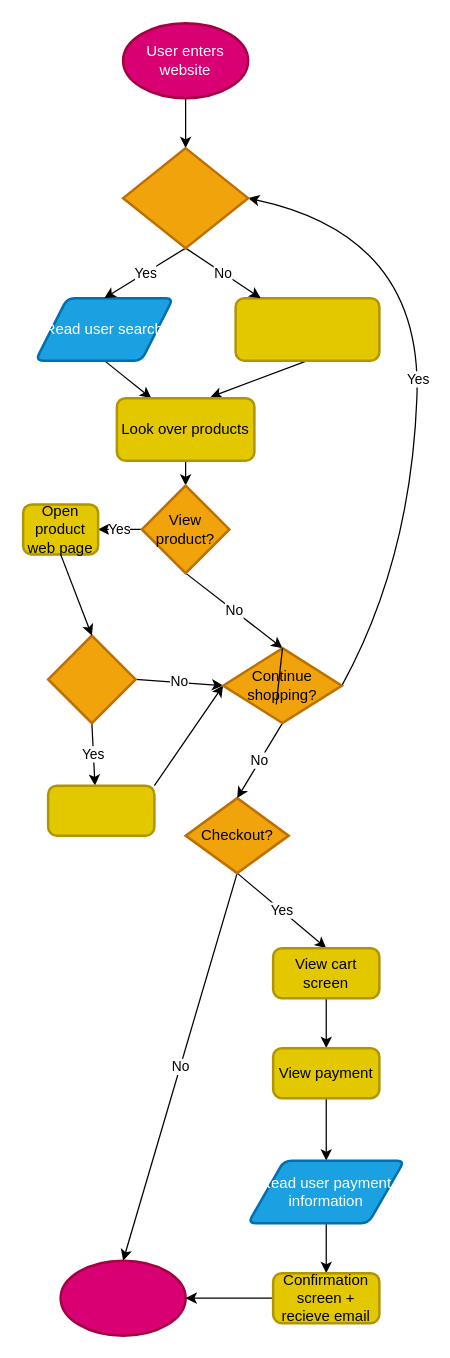
Image size: 450x1358. Some labels were removed from this diagram. The shapes that lost their labels are listed below. From the top down, each one's centre as x and y in pixels, then its label:
At (x=185, y=197): "Search for product?".
At (x=307, y=328): "Explore for products on homepage".
At (x=91, y=679): "Add to cart?".
At (x=100, y=810): "Add to cart confirmation".
At (x=122, y=1297): "Leave website".
